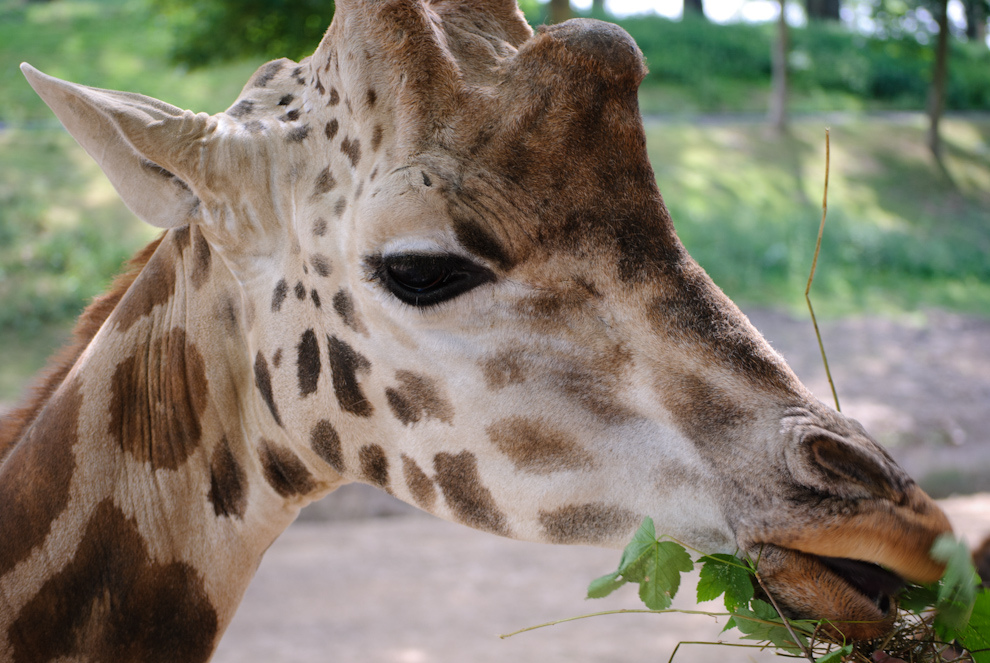giraffe: (37, 34, 915, 564)
